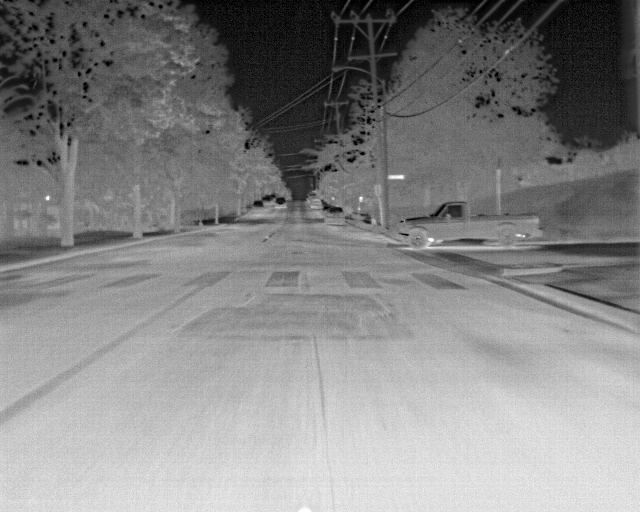vehicle: (396, 197, 547, 249)
